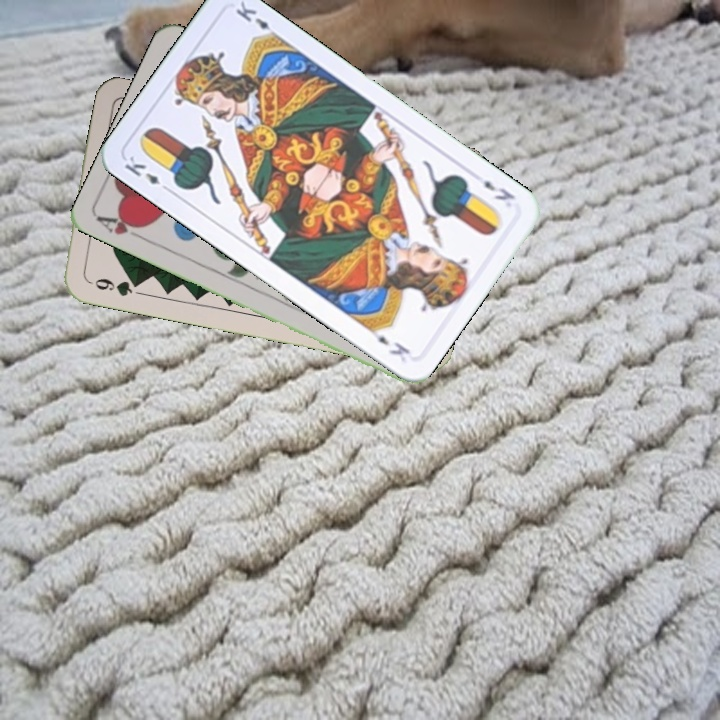EK: (120, 151, 174, 195), (479, 176, 518, 203)
G9: (83, 274, 144, 299)
HA: (94, 210, 150, 245)
